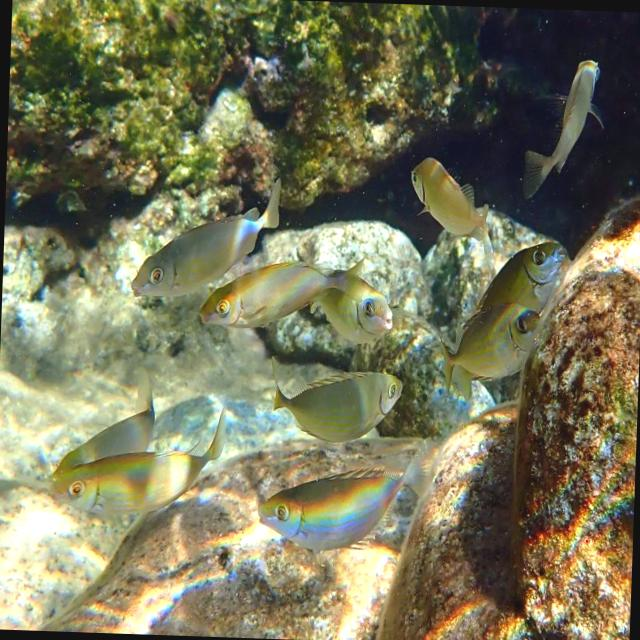Sokar Baligi: (121, 169, 288, 306), (255, 352, 407, 448), (400, 146, 494, 252)
